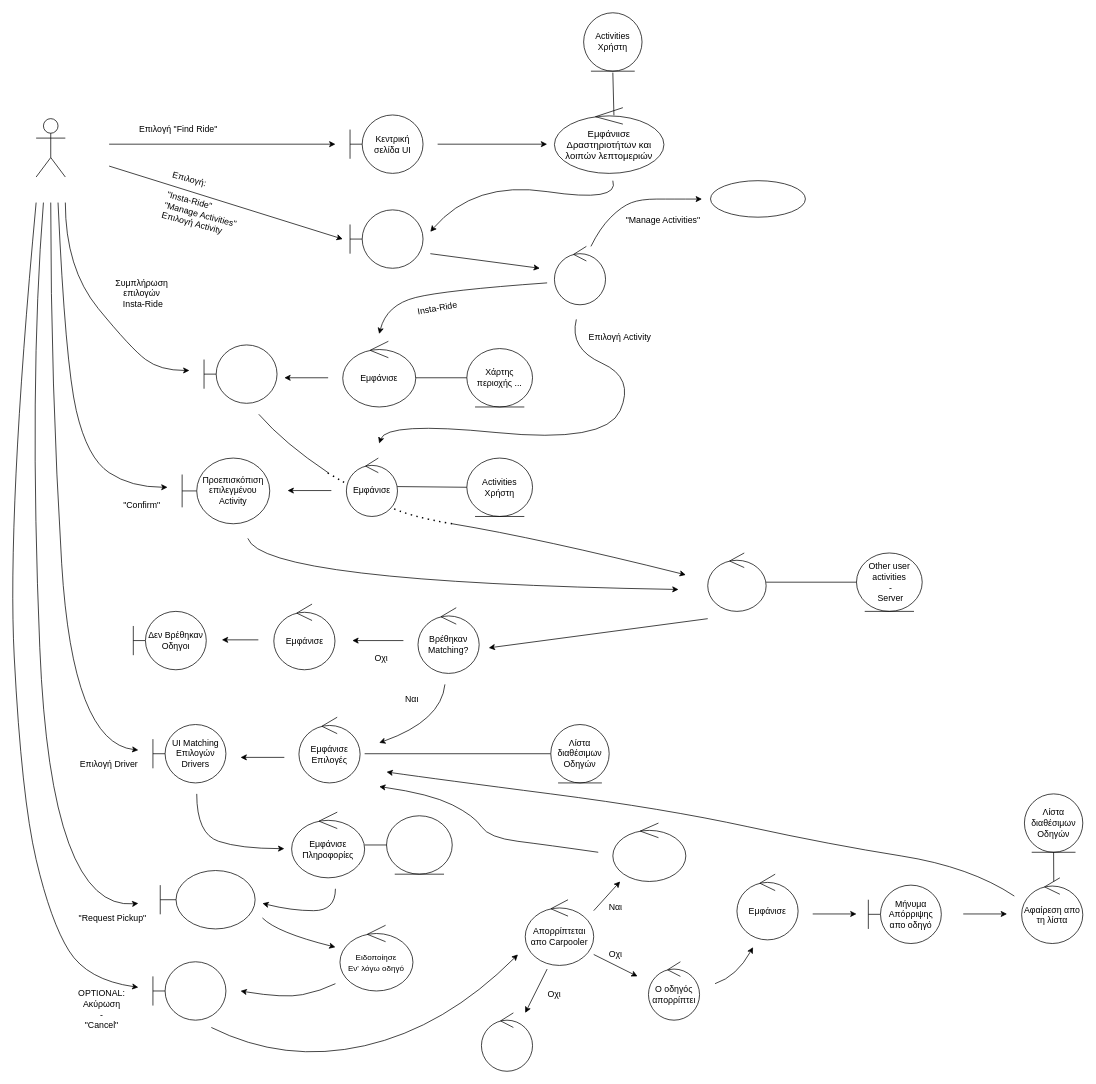
Image size: 1096x1084. Some labels were removed from this diagram. The shapes that lost their labels are listed below. From the top down, each one's box as (x1, y1, x2, y2) in pixels, then its label:
(35, 118, 65, 177): Carpooler
(710, 180, 805, 217): Manage Activities
(349, 209, 423, 268): Find Ride UI
(554, 246, 606, 305): Έλεγξε Επιλογή
(203, 344, 277, 403): Insta-Ride Επιλογές
(707, 552, 766, 611): Αναζήτησε Matches
(386, 815, 452, 874): Other User Profile - Server
(612, 822, 686, 881): Ενημέρωσε τον οδηγό για την ακύρωση
(160, 870, 255, 929): Σελίδα ανάδειξης πληροφοριών οδηγού candidate
(152, 961, 226, 1020): Οθόνη αναμονής
(481, 1012, 533, 1071): Ο οδηγός αποδέχεται
